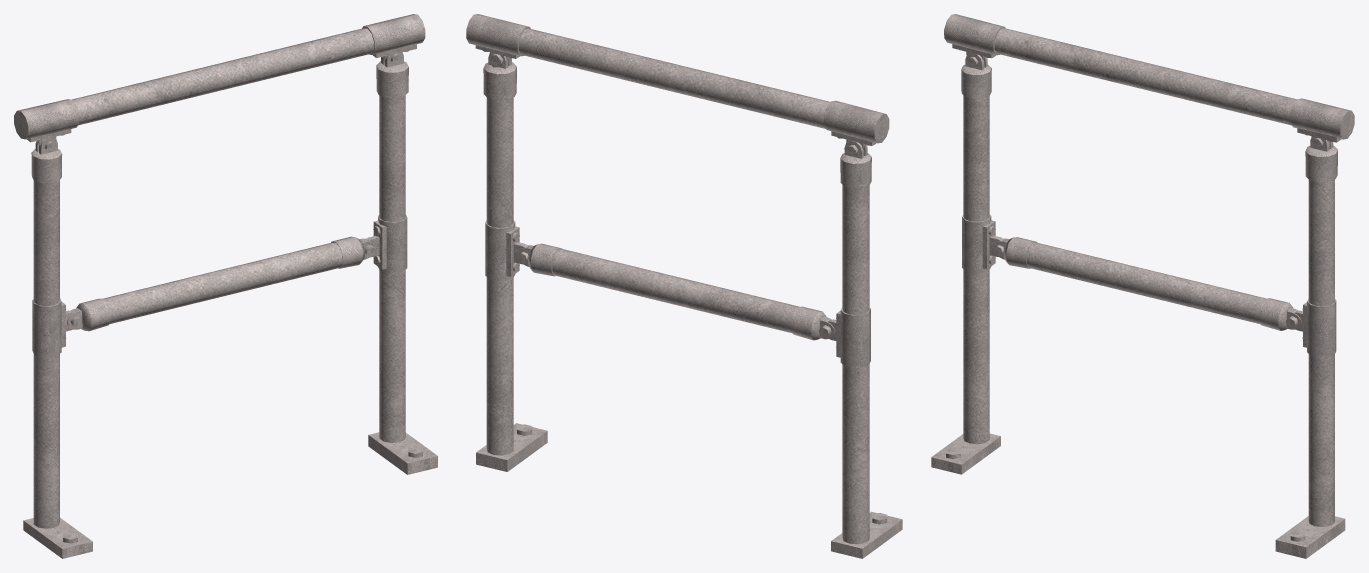
Rendered from SM_Railing_01e.glb.
3 views of the same model, side by side, from view 1: azimuth 30°, elevation 25°; view 2: azimuth 150°, elevation 25°; view 3: azimuth 330°, elevation 25° (orthographic). The views are drawn at different scales.
Parts seen in each view (by area): view 1: SM_Railing_01e; view 2: SM_Railing_01e; view 3: SM_Railing_01e.
Boxes of the visible parts, box(x1,y1,x2,y2) form: SM_Railing_01e: box(14, 14, 437, 558); SM_Railing_01e: box(466, 14, 902, 558); SM_Railing_01e: box(931, 14, 1354, 558).
Size of the model in its own units: 1 by 1.03 by 0.1718.
1 material, 1 textured.
